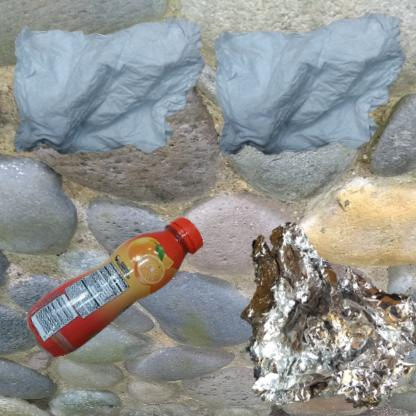aluminio: (213, 213, 416, 416)
botella: (10, 213, 259, 386)
papel: (10, 10, 209, 161), (213, 10, 409, 158)
